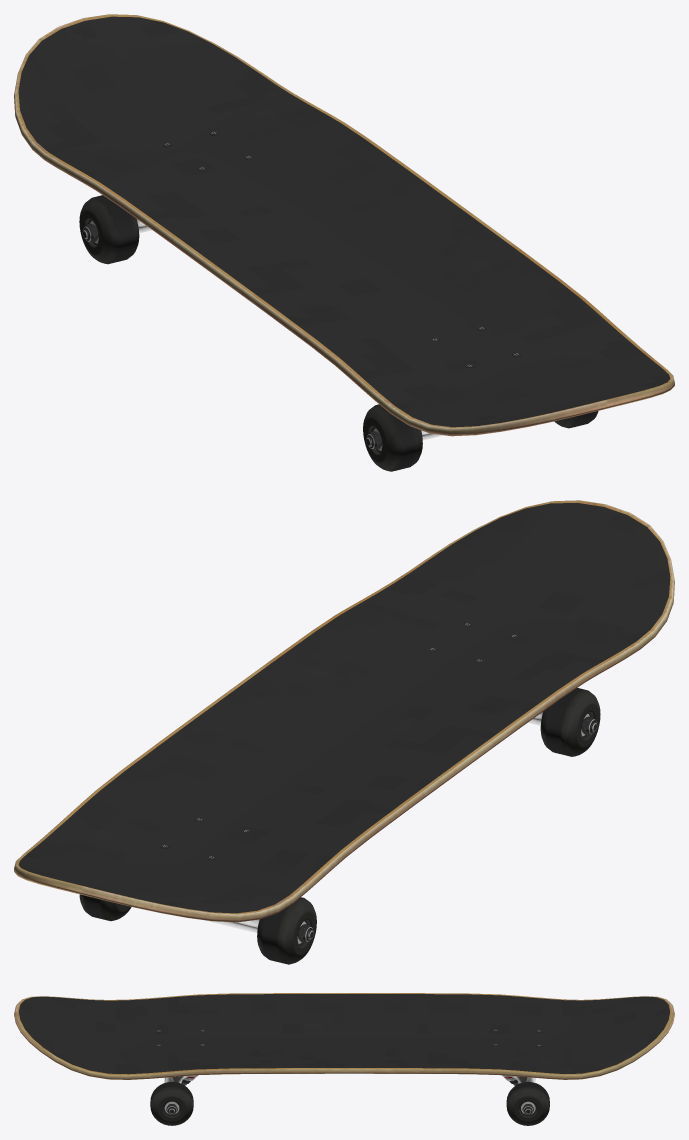
Rendered from skateboard-lite.glb.
3 renders of one model, top to bottom at view 1: azimuth 30°, elevation 25°; view 2: azimuth 150°, elevation 25°; view 3: azimuth 270°, elevation 25°, orthographic. The views are drawn at different scales.
Parts seen in each view (by area): view 1: FULL_Plane.005; view 2: FULL_Plane.005; view 3: FULL_Plane.005.
Boxes of the visible parts, x1,y1,x2,y2 form: FULL_Plane.005: [14, 14, 674, 471]; FULL_Plane.005: [14, 500, 674, 964]; FULL_Plane.005: [14, 993, 674, 1125].
Bounding box in the file's own units: 0.2198 × 0.1132 × 0.7958.
Materials: 9 (9 with a texture image).
